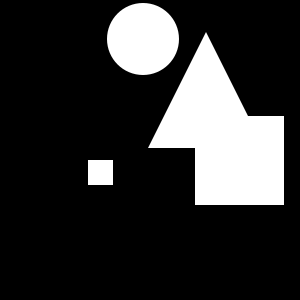circle: (195, 116, 284, 205), (88, 160, 113, 185)
rectangle: (107, 3, 179, 75)
triangle: (148, 32, 264, 148), (164, 83, 203, 122)
